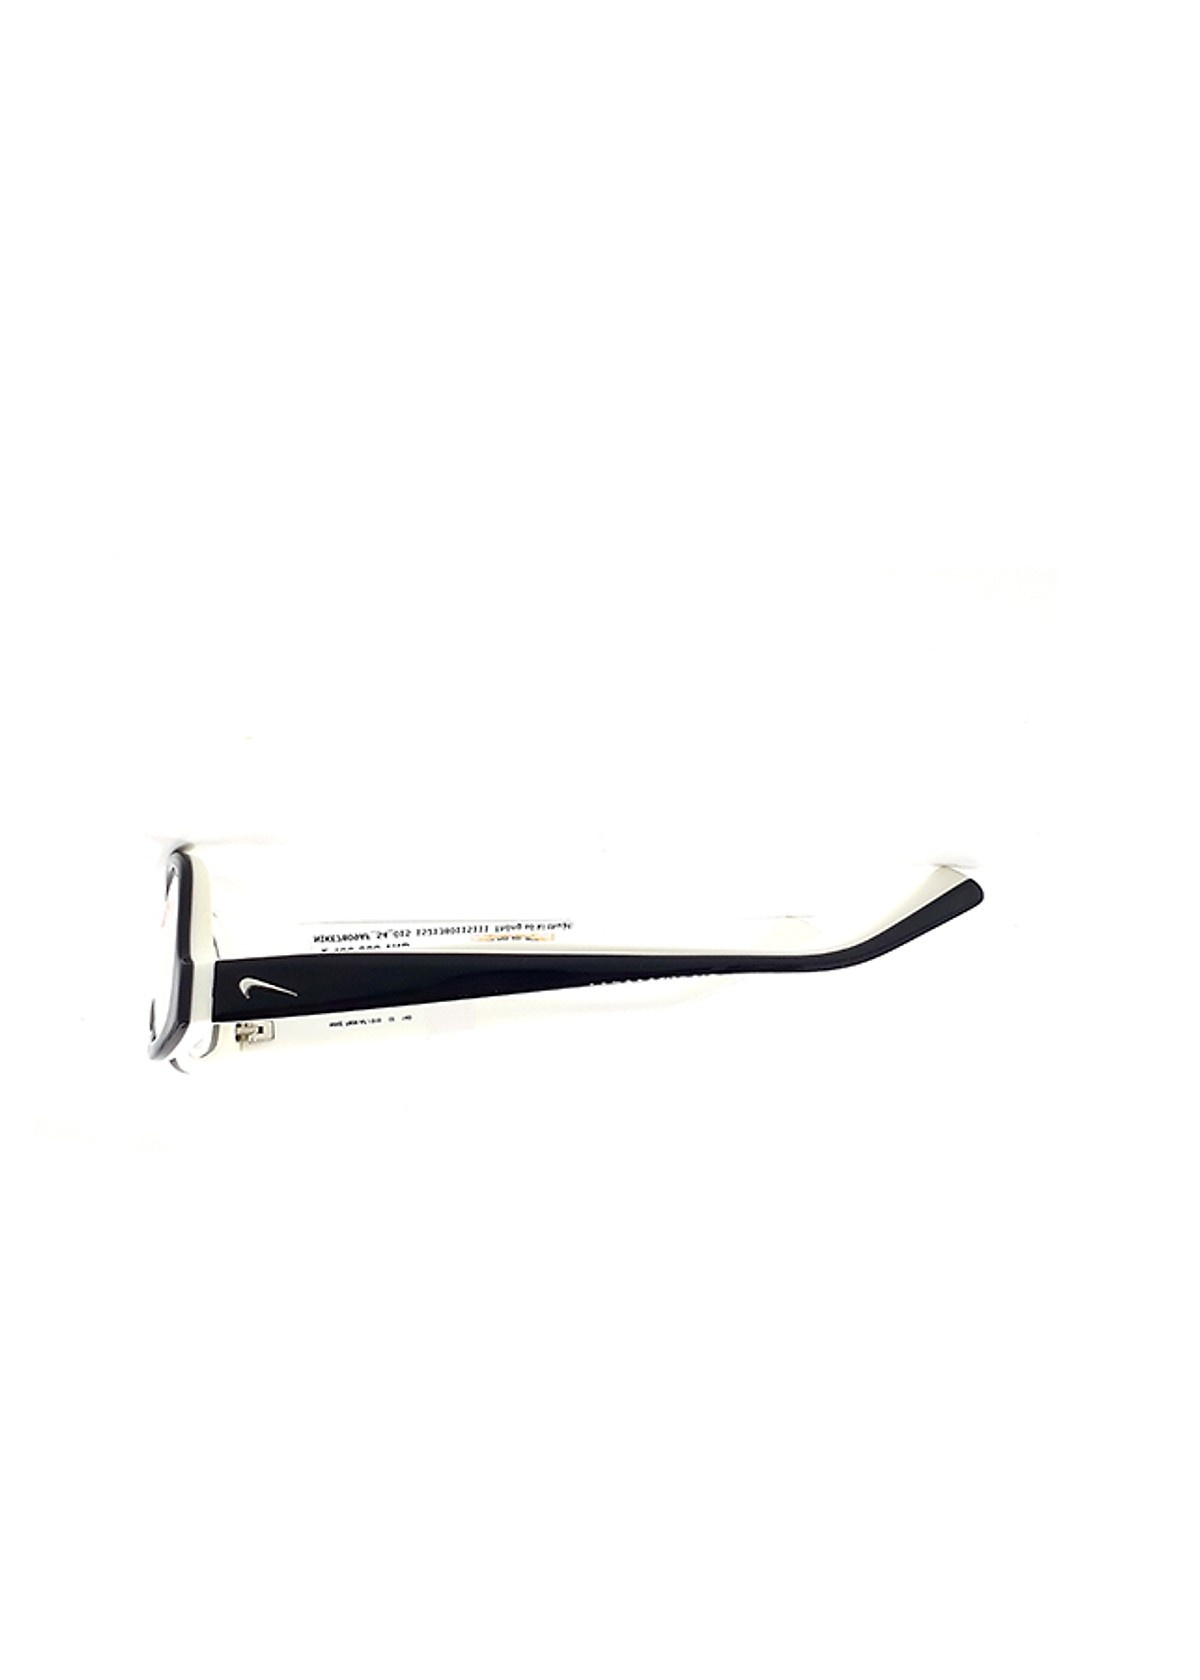Nike: (177, 913, 377, 1057)
